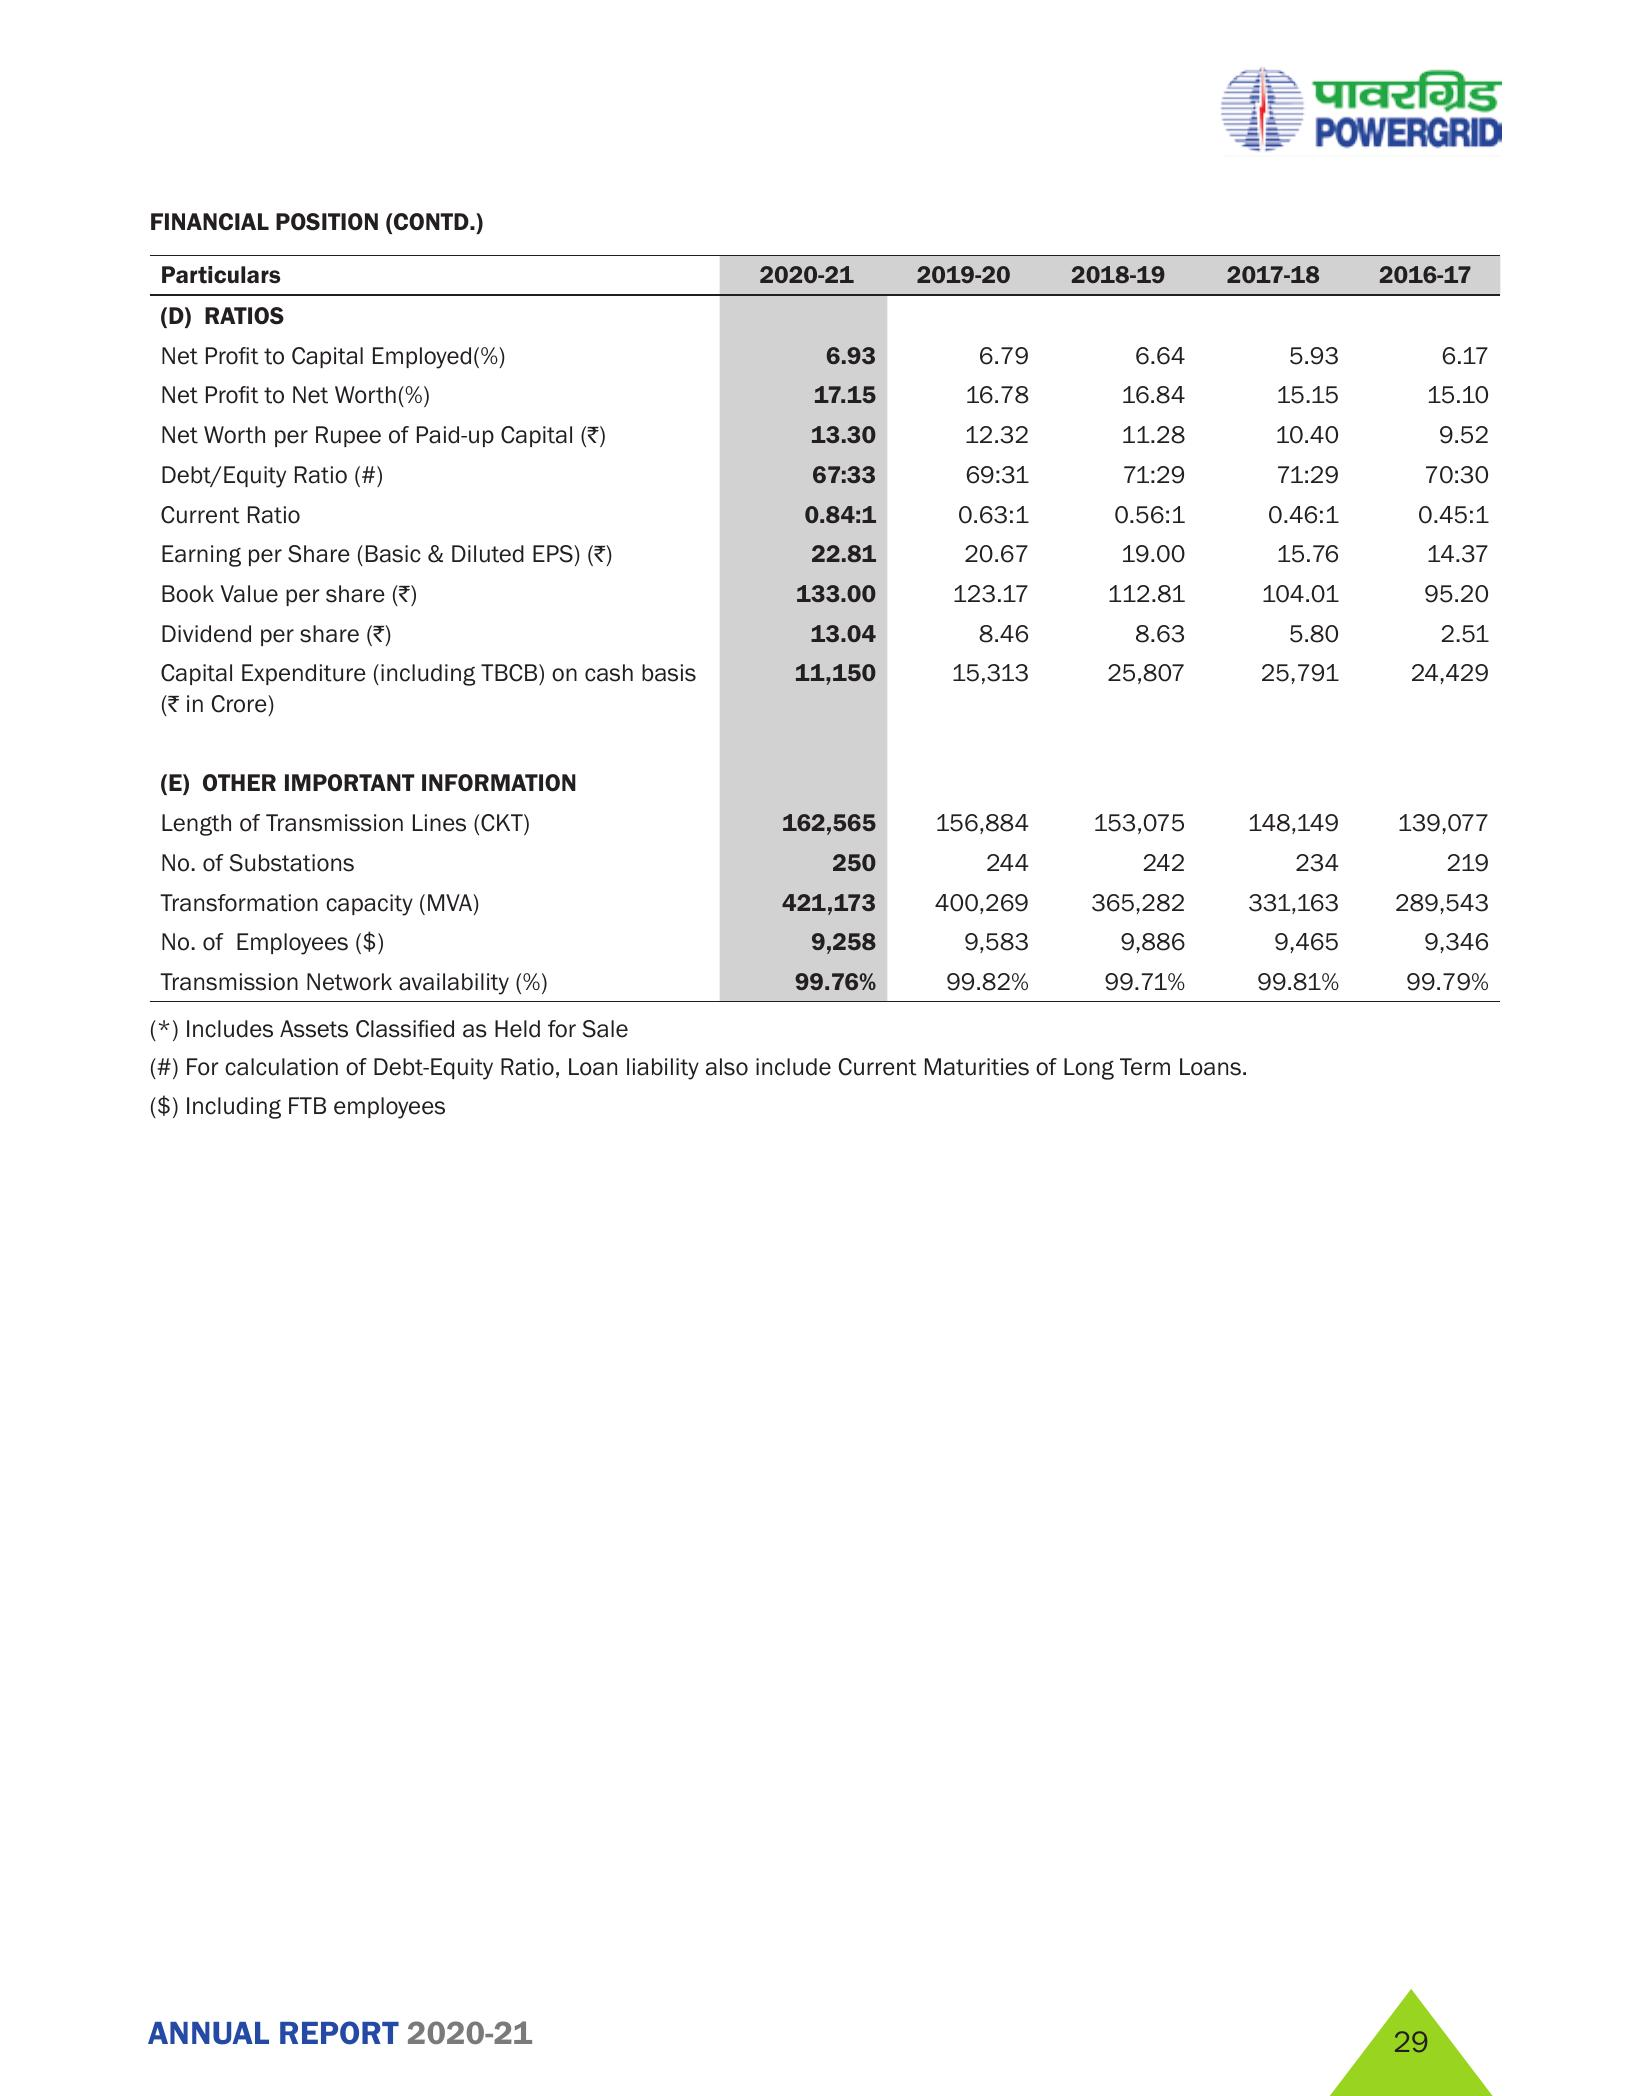Footer: (0, 1979, 1650, 2096)
Header: (0, 0, 1650, 184)
Table: (94, 233, 1533, 1026)
